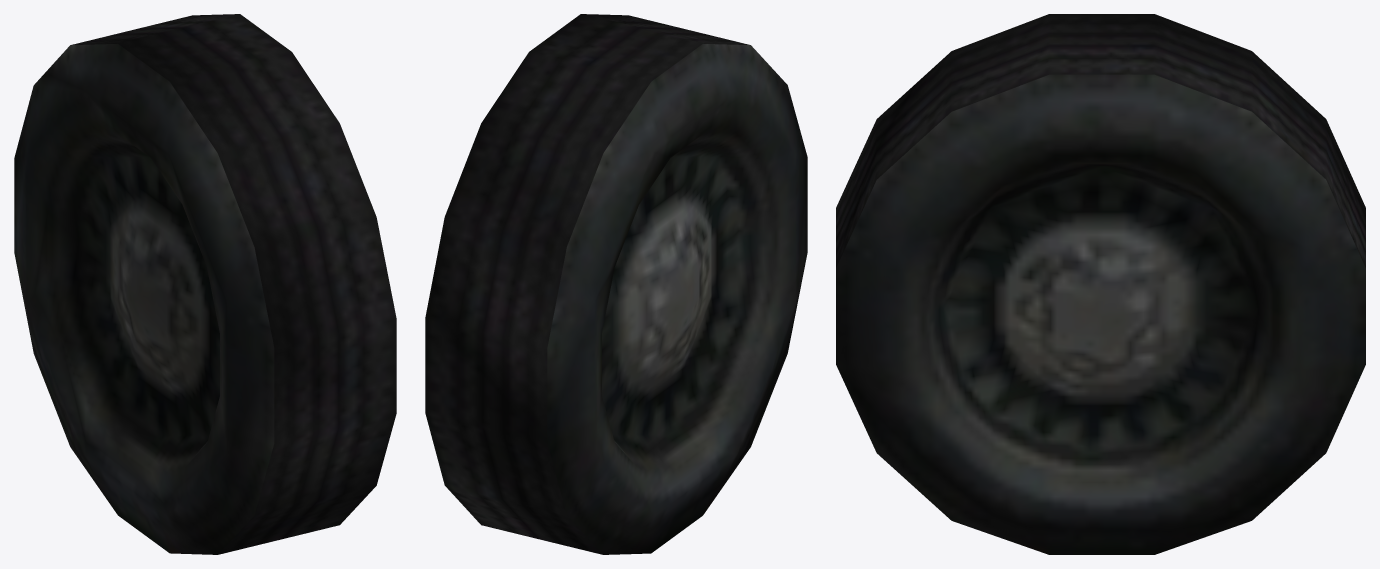
Rendered from policecar_wheel.obj.
The picture shows the model from 3 angles, left to right: view 1: azimuth 30°, elevation 25°; view 2: azimuth 150°, elevation 25°; view 3: azimuth 270°, elevation 25°; orthographic projection.
Visible parts, largest first — view 1: policecar_wheel_(null).001; view 2: policecar_wheel_(null).001; view 3: policecar_wheel_(null).001.
Part boxes in pixels (x1,y1,x2,y2): policecar_wheel_(null).001: (14,14,396,554); policecar_wheel_(null).001: (425,14,807,554); policecar_wheel_(null).001: (836,14,1365,554).
Bounding box in the file's own units: 0.6955 × 2 × 2.
1 material, 1 textured.
